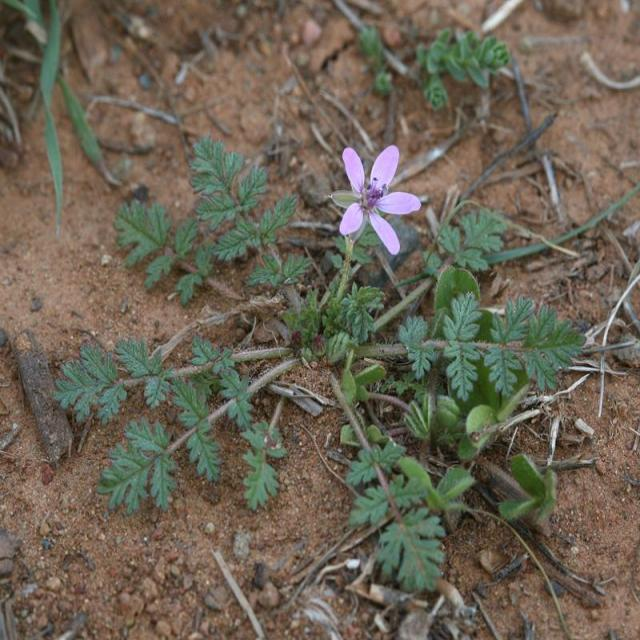organic waste: (326, 137, 434, 264)
